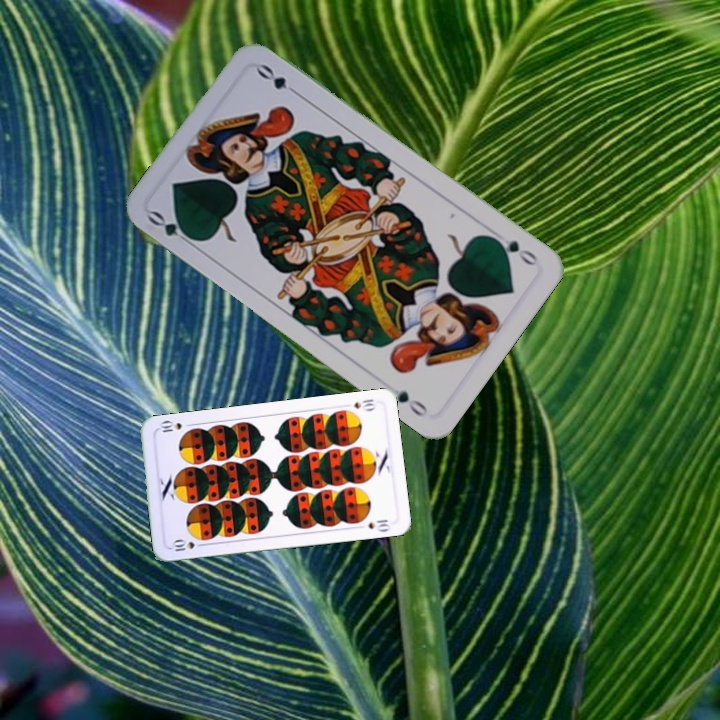GO: (143, 206, 199, 249), (487, 227, 541, 269)
S10: (167, 537, 208, 554), (350, 395, 378, 413)
